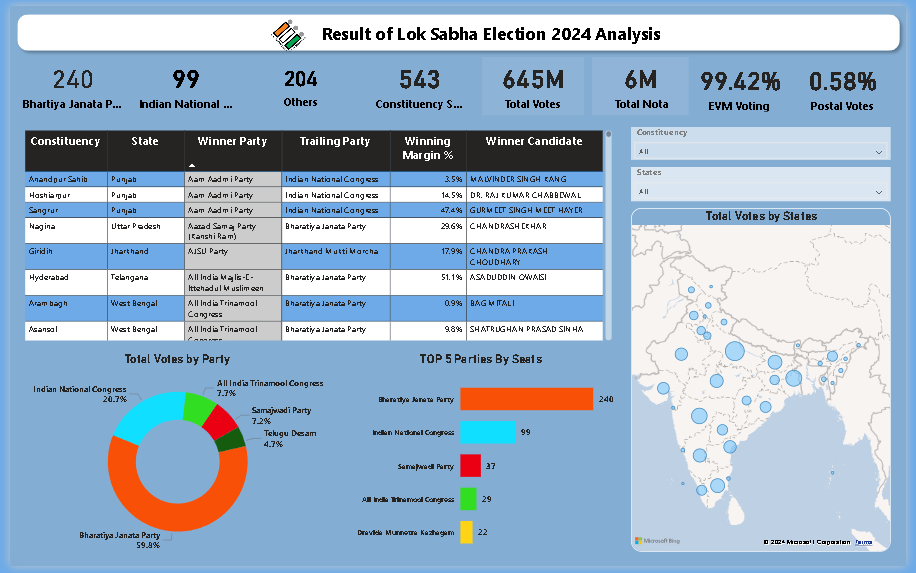

The dashboard page shown, as its layout file describes it:
{"tool":"powerbi","page":{"name":"Page 1`","canvas":[1280,800],"ordinal":0},"visuals":[{"type":"tableEx","fields":{"Values":["sheet1.constituency_name","sheet1.state_name","Key Measures.Winner Party","Key Measures.Trailing Party","Key Measures.Winning Margin %","Key Measures.Winner Candidate"]},"box":[15.7,172.9,848.6,310],"z":5000},{"type":"card","title":"Constituency Seats","fields":{"Values":["Key Measures.Total Constituencies"]},"box":[511,72.2,145.8,82.9],"z":7000},{"type":"slicer","fields":{"Values":["sheet1.constituency_name"]},"box":[887.1,172.9,371.4,47.1],"z":8000},{"type":"card","fields":{"Values":["Key Measures.% EVM Votes"]},"box":[979.3,72.2,131.1,82.9],"z":9000},{"type":"card","fields":{"Values":["Key Measures.Total Votes"]},"box":[674.2,72.2,145.8,82.9],"z":10000},{"type":"card","fields":{"Values":["Key Measures.% Postal Votes"]},"box":[1119.7,72.2,139.1,82.9],"z":11000},{"type":"card","fields":{"Values":["Key Measures.Total Votes for NOTA"]},"box":[832.1,72.2,137.8,82.9],"z":12000},{"type":"barChart","title":"TOP 5 Parties By Seats","fields":{"Y":["Key Measures.Seats Won"],"Category":["sheet1.party_name"]},"box":[481.4,494.3,382.9,294.3],"z":13000},{"type":"donutChart","title":"Total Votes by Party ","fields":{"Category":["sheet1.party_name"],"Y":["Key Measures.Total Votes by Party"]},"box":[13.4,493.6,453.5,294.3],"z":14000},{"type":"slicer","fields":{"Values":["sheet1.state_name"]},"box":[887.1,230,371.4,48.6],"z":25000},{"type":"map","title":"Total Votes by States","fields":{"Category":["sheet1.state_name"],"Size":["Key Measures.Total Votes"]},"box":[887.1,288.6,371.4,491.4],"z":26000},{"type":"card","fields":{"Values":["Key Measures.BJP Seats Won"]},"box":[14.7,72.2,151.2,82.9],"z":27000},{"type":"card","fields":{"Values":["Key Measures.Congress Seats Won"]},"box":[177.9,72.2,145.8,82.9],"z":28000},{"type":"card","fields":{"Values":["Key Measures.Others seat"]},"box":[337.1,72.2,156.5,82.9],"z":29000},{"type":"shape","box":[1.4,2.9,1278.6,70],"z":33000},{"type":"textbox","box":[440,17.1,614.3,42.9],"z":34000},{"type":"image","box":[368.6,17.1,58.6,51.4],"z":35000}]}

Visuals, with their boxes in screenshot pixels (x1, y1, x2, y2), scaled from the page's 1280x800 canvas onto the 916x573 screenshot:
tableEx - sheet1.constituency_name x sheet1.state_name: x1=11, y1=124, x2=619, y2=346
"Constituency Seats" card: x1=366, y1=52, x2=470, y2=111
slicer - sheet1.constituency_name: x1=635, y1=124, x2=901, y2=158
card - Key Measures.% EVM Votes: x1=701, y1=52, x2=795, y2=111
card - Key Measures.Total Votes: x1=482, y1=52, x2=587, y2=111
card - Key Measures.% Postal Votes: x1=801, y1=52, x2=901, y2=111
card - Key Measures.Total Votes for NOTA: x1=595, y1=52, x2=694, y2=111
"TOP 5 Parties By Seats" barChart: x1=345, y1=354, x2=619, y2=565
"Total Votes by Party " donutChart: x1=10, y1=354, x2=334, y2=564
slicer - sheet1.state_name: x1=635, y1=165, x2=901, y2=200
"Total Votes by States" map: x1=635, y1=207, x2=901, y2=559
card - Key Measures.BJP Seats Won: x1=11, y1=52, x2=119, y2=111
card - Key Measures.Congress Seats Won: x1=127, y1=52, x2=232, y2=111
card - Key Measures.Others seat: x1=241, y1=52, x2=353, y2=111
shape: x1=1, y1=2, x2=915, y2=52
textbox: x1=315, y1=12, x2=754, y2=43
image: x1=264, y1=12, x2=306, y2=49
